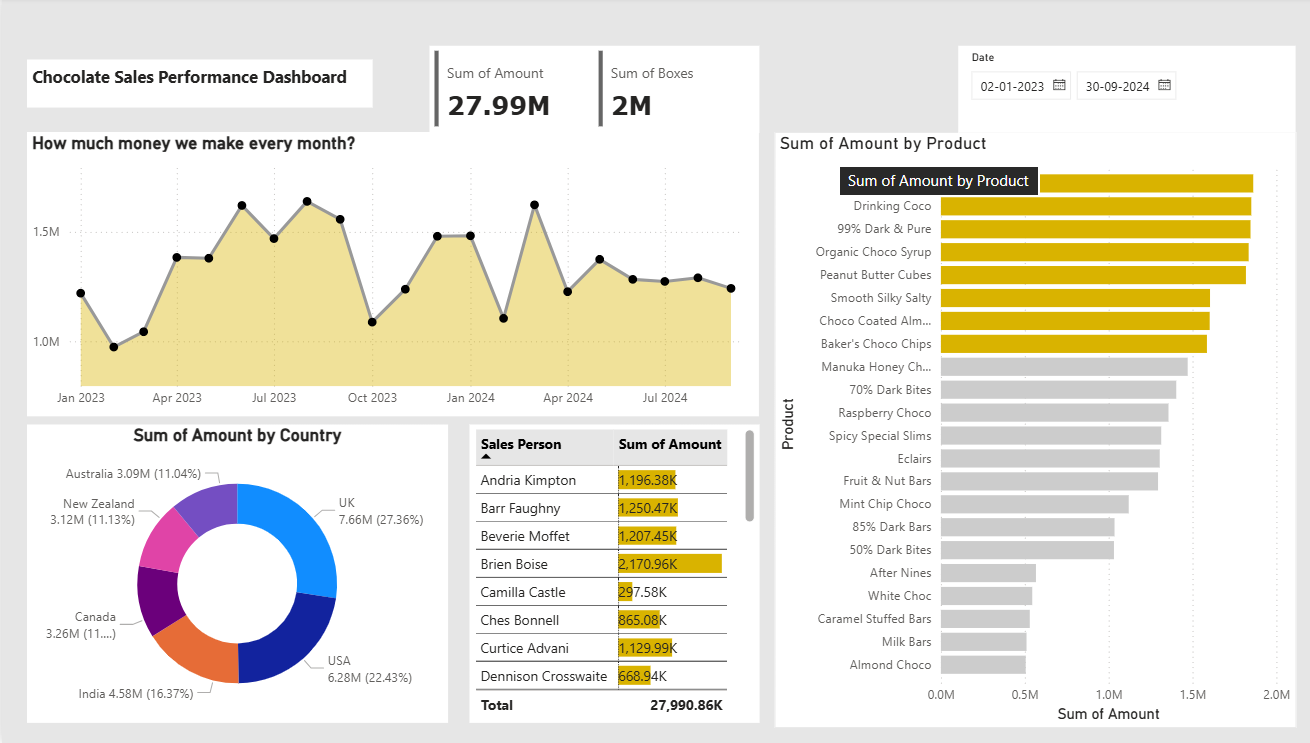

This screenshot's page, from the dashboard's own definition file:
{"tool":"powerbi","page":{"name":"Page 2","canvas":[1280,720],"ordinal":1},"visuals":[{"type":"lineChart","title":"How much money we make every month?","fields":{"Category":["data.Date.Variation.Date Hierarchy.Year","data.Date.Variation.Date Hierarchy.Quarter","data.Date.Variation.Date Hierarchy.Month","data.Date.Variation.Date Hierarchy.Day"],"Y":["Sum(data.Amount)"]},"box":[24.7,130.4,706.7,274.4],"z":0},{"type":"donutChart","fields":{"Category":["data.Country"],"Y":["Sum(data.Amount)"]},"box":[24.7,413,406.2,288.2],"z":1000},{"type":"tableEx","fields":{"Values":["data.Sales Person","Sum(data.Amount)"]},"box":[451.5,413,279.9,288.2],"z":2000},{"type":"clusteredBarChart","fields":{"Category":["data.Product"],"Y":["Sum(data.Amount)"]},"box":[745.1,130.4,503.6,575],"z":3000},{"type":"cardVisual","fields":{"Data":["Sum(data.Amount)","Sum(data.Boxes)"]},"box":[413,46.7,318.4,83.7],"z":3001},{"type":"slicer","fields":{"Values":["data.Date"]},"box":[923.5,46.7,325.2,83.7],"z":3002},{"type":"textbox","box":[24.7,60.4,333.4,46.7],"z":3003}]}

Visuals, with their boxes in screenshot pixels (x1, y1, x2, y2), scaled from the page's 1280x720 canvas onto the 1310x743 screenshot:
"How much money we make every month?" lineChart: <box>25,135,749,418</box>
donutChart - data.Country x Sum(data.Amount): <box>25,426,441,724</box>
tableEx - data.Sales Person x Sum(data.Amount): <box>462,426,749,724</box>
clusteredBarChart - data.Product x Sum(data.Amount): <box>763,135,1278,728</box>
cardVisual - Sum(data.Amount) x Sum(data.Boxes): <box>423,48,749,135</box>
slicer - data.Date: <box>945,48,1278,135</box>
textbox: <box>25,62,366,111</box>
